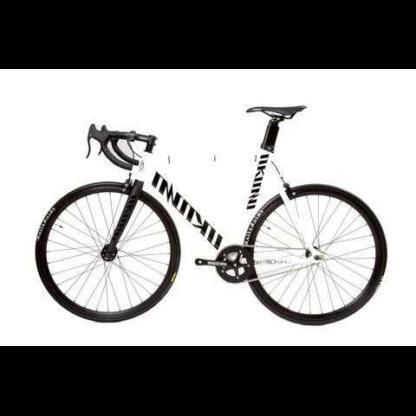Bicycle: (26, 85, 396, 338)
